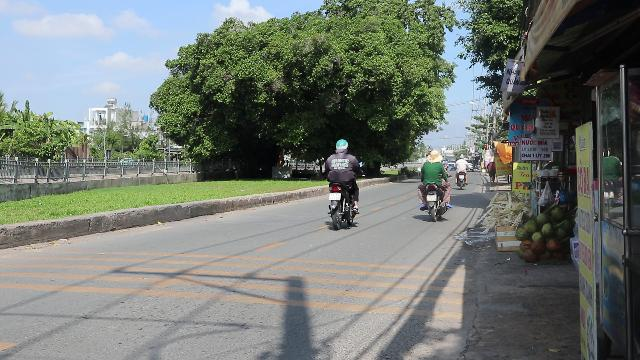helmet: (334, 139, 348, 153)
motorcyclist: (322, 138, 362, 228)
